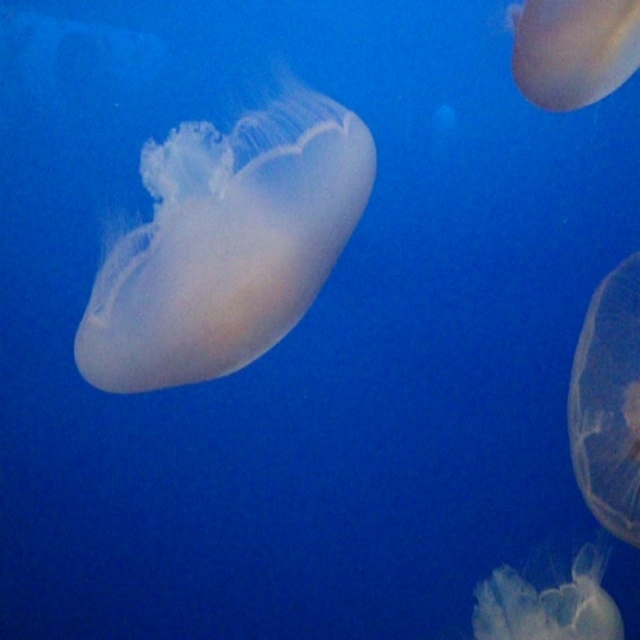Jellyfish: (84, 81, 384, 397), (567, 255, 639, 547), (474, 537, 623, 639), (511, 0, 639, 117)
